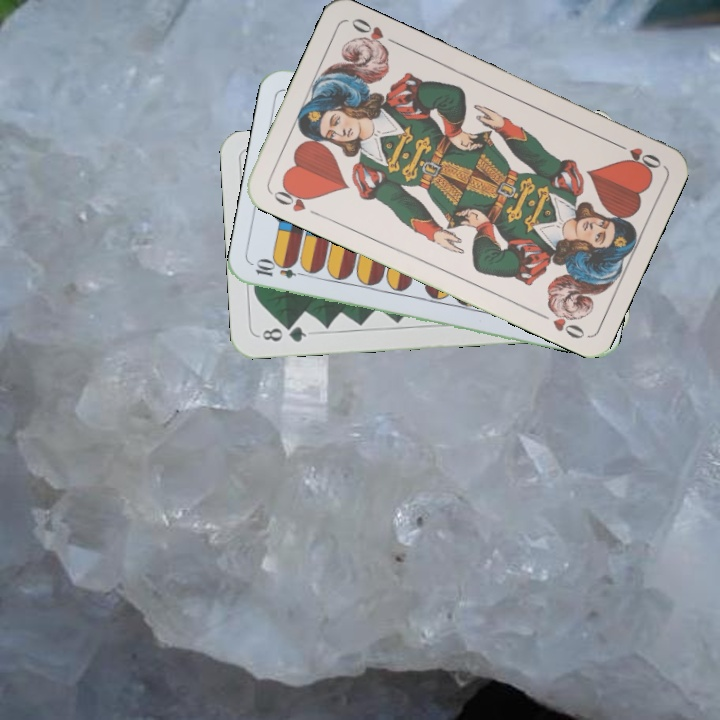E10: (251, 258, 311, 282)
G8: (258, 321, 309, 345)
HO: (267, 181, 323, 219), (609, 137, 664, 174)
